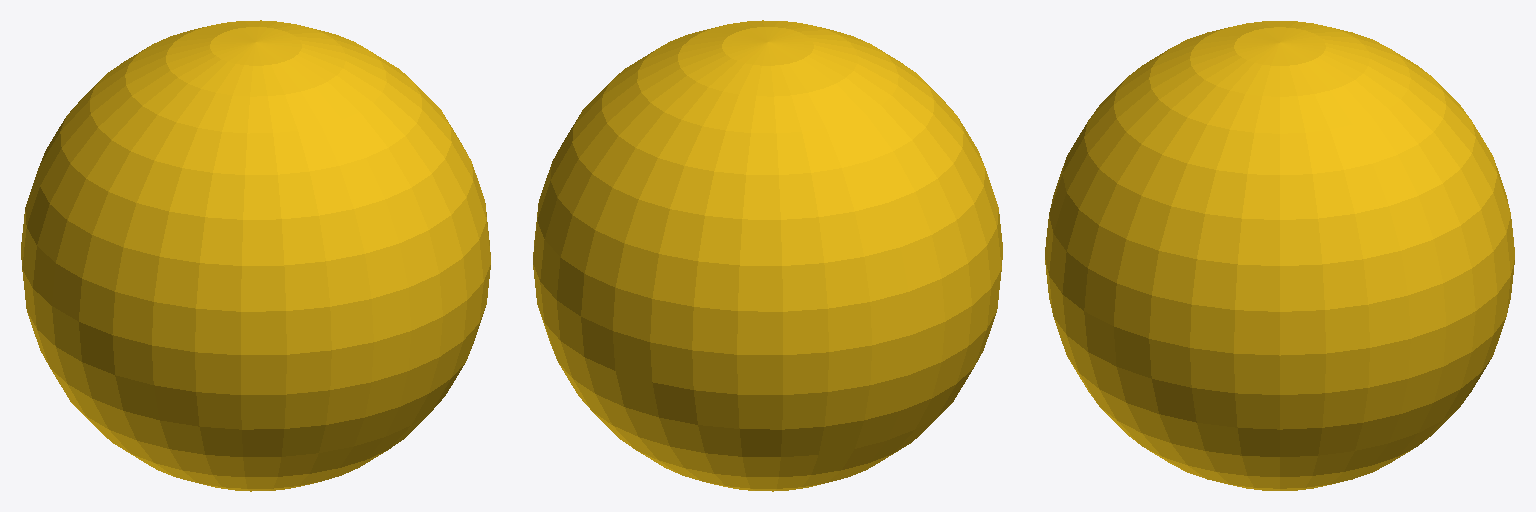
robot.urdf — obj_04:
<?xml version="1.0"?>
<robot name="obj_04">
  <!-- rubber ball: rubber, 60 g. Written by Darius 0.2.0. Link frame: +z up, origin at the capture-time bounding-box center; place it at the pose in world.json -->
  <mujoco>
    <compiler meshdir="../meshes/" discardvisual="true" balanceinertia="true" fusestatic="false" />
  </mujoco>
  <link name="obj_04">
    <inertial>
      <origin xyz="0 0 0" rpy="0 0 0" />
      <mass value="0.06" />
      <inertia ixx="4.36654e-05" ixy="0" ixz="0" iyy="4.36654e-05" iyz="0" izz="4.36654e-05" />
    </inertial>
    <visual>
      <geometry>
        <sphere radius="0.035" />
      </geometry>
      <material name="obj_04_color">
        <color rgba="0.953 0.776 0.137 1" />
      </material>
    </visual>
    <collision name="obj_04">
      <geometry>
        <sphere radius="0.035" />
      </geometry>
    </collision>
    <contact>
      <lateral_friction value="0.8" />
      <restitution value="0.85" />
    </contact>
  </link>
</robot>

--- What the picture shows (computed from the rendered views, not written in the file) ---
3 views of the same robot in one strip: view 1: azimuth 30°, elevation 25°; view 2: azimuth 150°, elevation 25°; view 3: azimuth 270°, elevation 25° (orthographic).
Robot: obj_04 — 1 links, 0 joints (none); root link obj_04; default pose: all joints at 0.
Links seen in each view (by area): view 1: obj_04; view 2: obj_04; view 3: obj_04.
Boxes of the visible links, bbox=[...] form: obj_04: bbox=[21, 20, 490, 491]; obj_04: bbox=[533, 20, 1002, 491]; obj_04: bbox=[1045, 21, 1514, 490].
Size in the robot's own frame: 0.07 by 0.07 by 0.07 metres.
Geometry: primitives only (box / cylinder / sphere), no mesh files.
